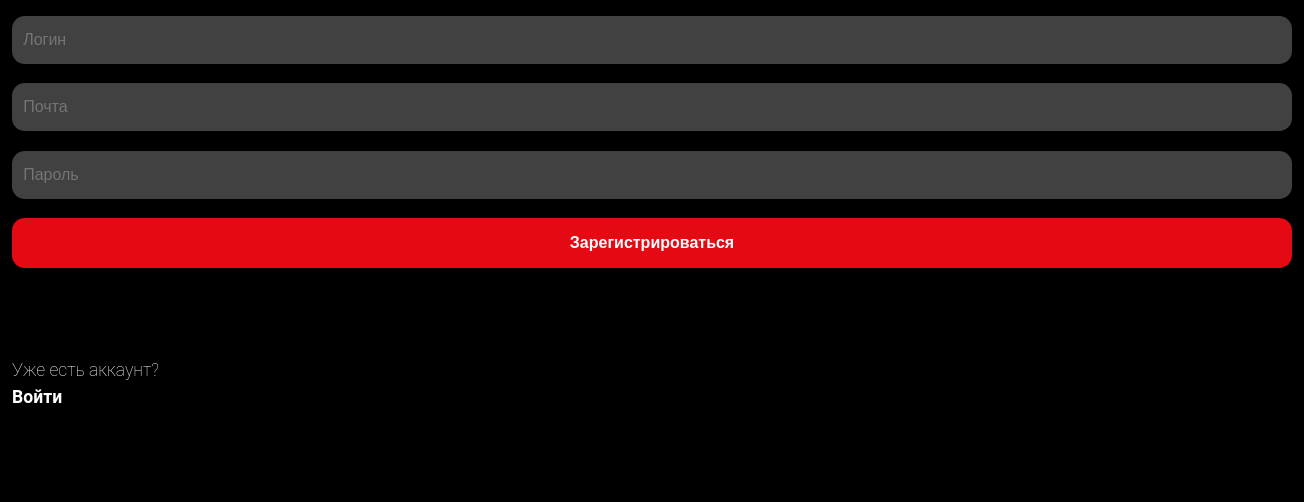
CustomForm Signup › Успешное отправление формы при правильных данных
This screenshot has width=1304, height=502.
Type "CorrectLogin" into the field with placeholder "Логин" at x=652, y=40, box [12,16,1292,64]
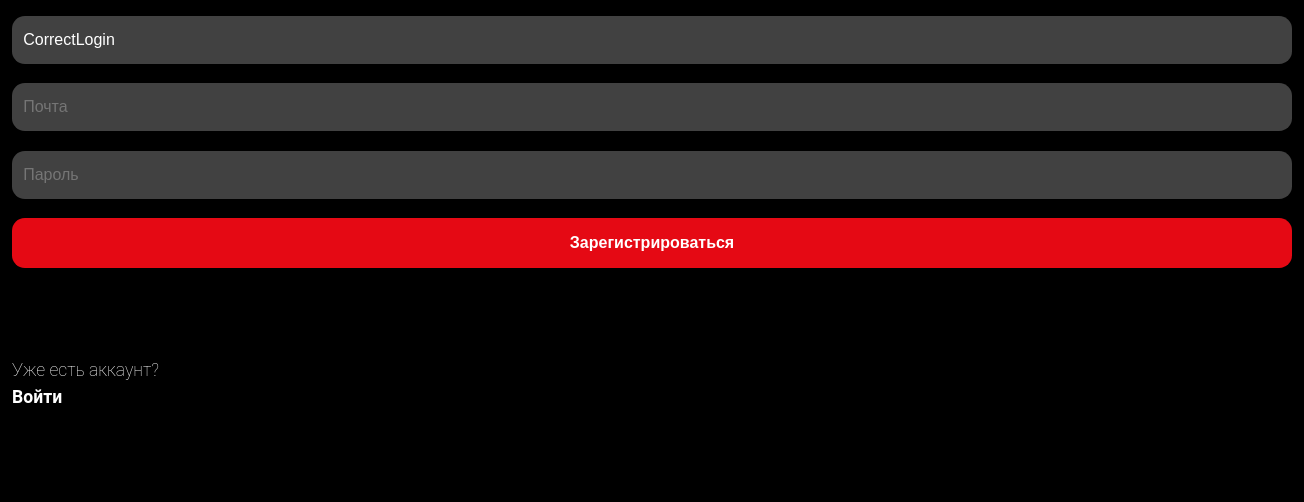
Type "correctLogin@mail.ru" into the field with placeholder "Почта" at x=652, y=107, box [12,83,1292,131]
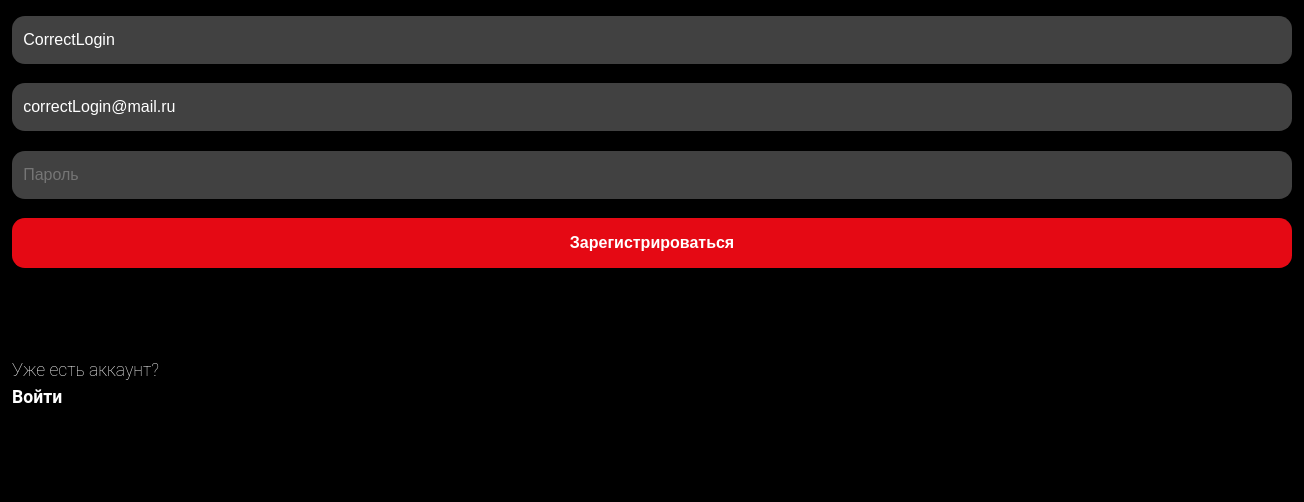
Type "correctPassword228;" into the password field with placeholder "Пароль" at x=652, y=175, box [12,151,1292,199]
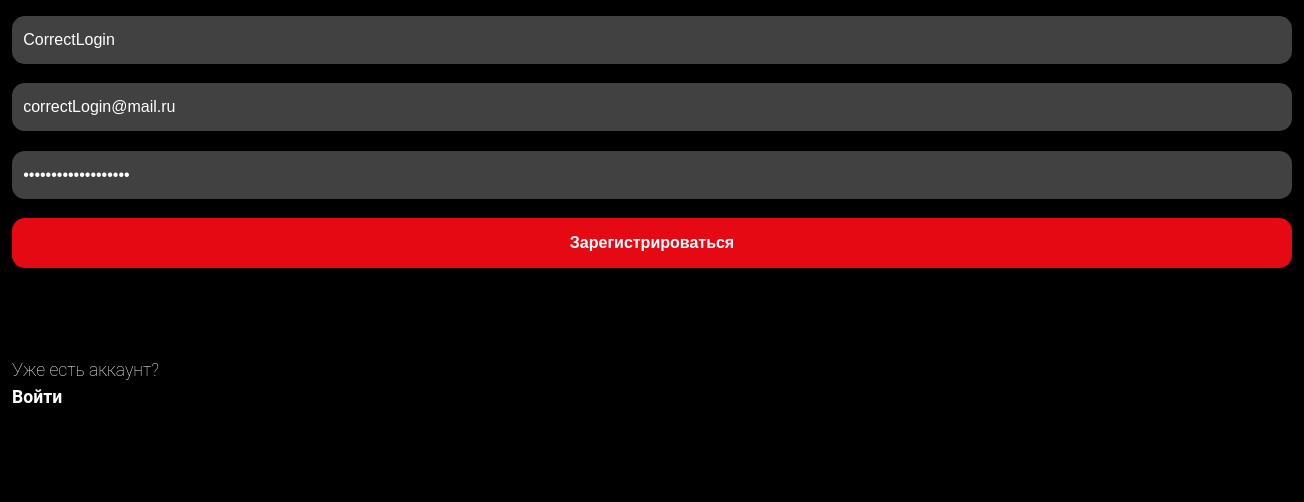
Submit the form
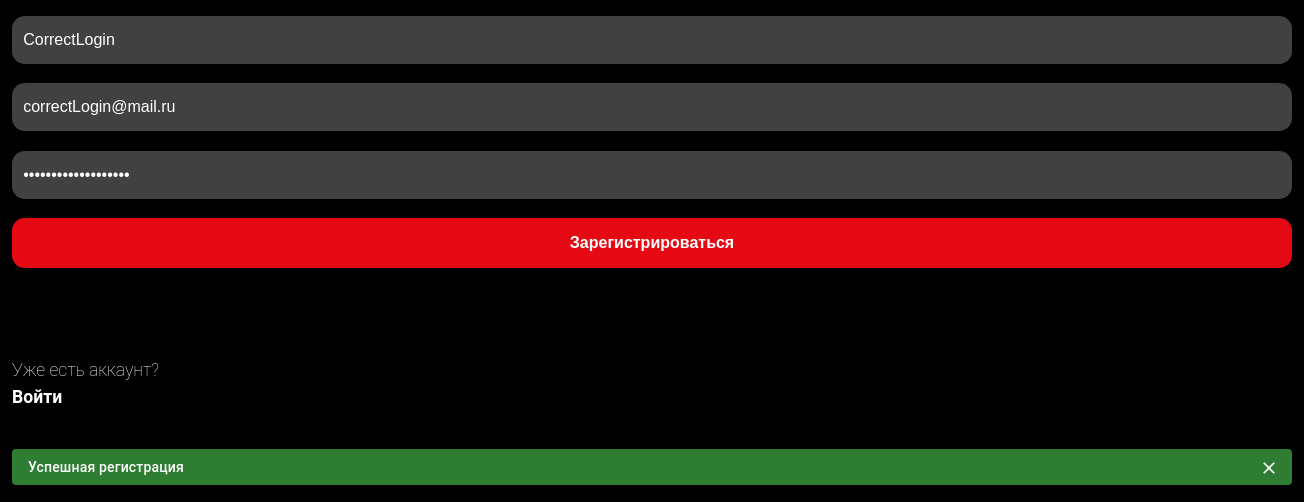
Now the text "Успешная регистрация" is shown, box [28,458,184,474]
